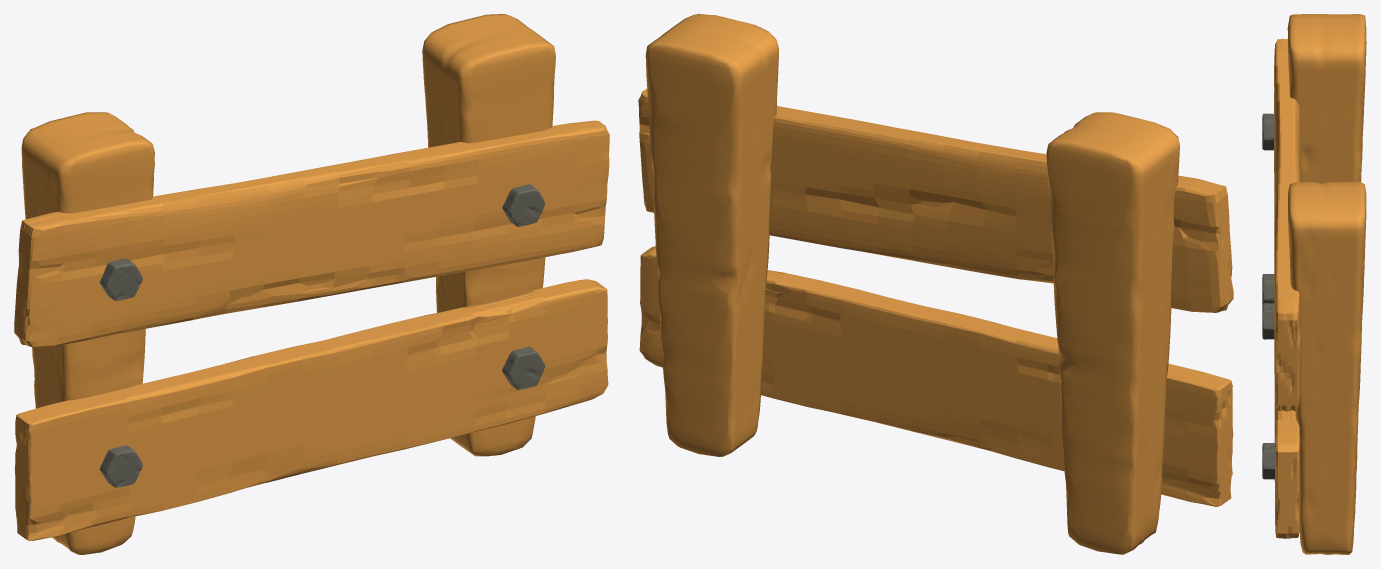
Rendered from fence.fbx.
The picture shows the model from 3 angles, left to right: view 1: azimuth 30°, elevation 25°; view 2: azimuth 150°, elevation 25°; view 3: azimuth 270°, elevation 25°; orthographic projection. The views are drawn at different scales.
Visible parts, largest first — view 1: Fence.004; view 2: Fence.004; view 3: Fence.004.
Boxes of the visible parts, x1=… form: Fence.004: x1=14, y1=14, x2=609, y2=554; Fence.004: x1=638, y1=14, x2=1233, y2=554; Fence.004: x1=1262, y1=14, x2=1366, y2=554.
Size of the model in its own units: 582 by 390 by 104.
